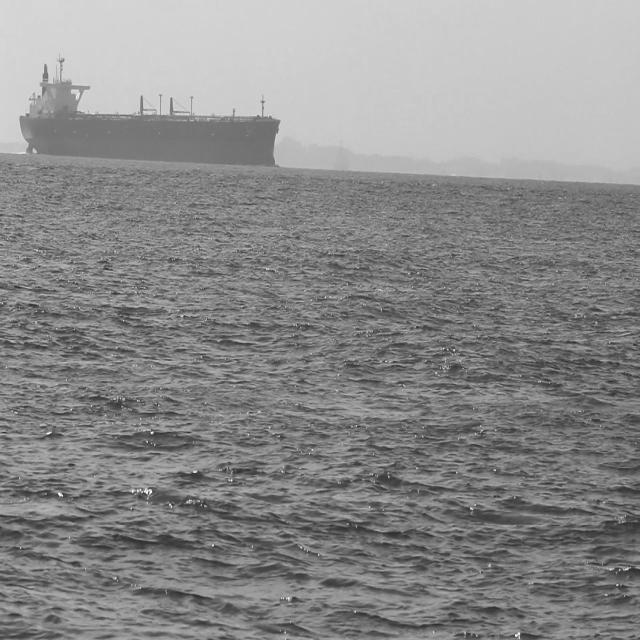ship: (19, 58, 280, 160)
